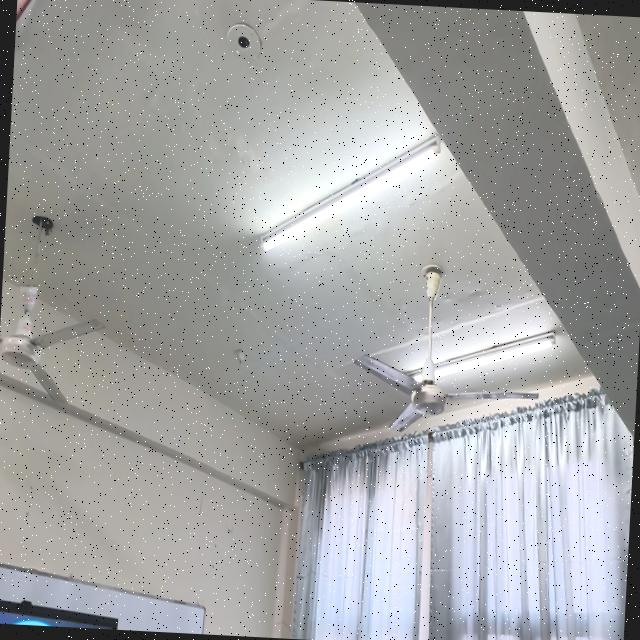Digital board: (0, 600, 117, 630)
Light: (260, 136, 440, 250), (435, 330, 555, 378)
